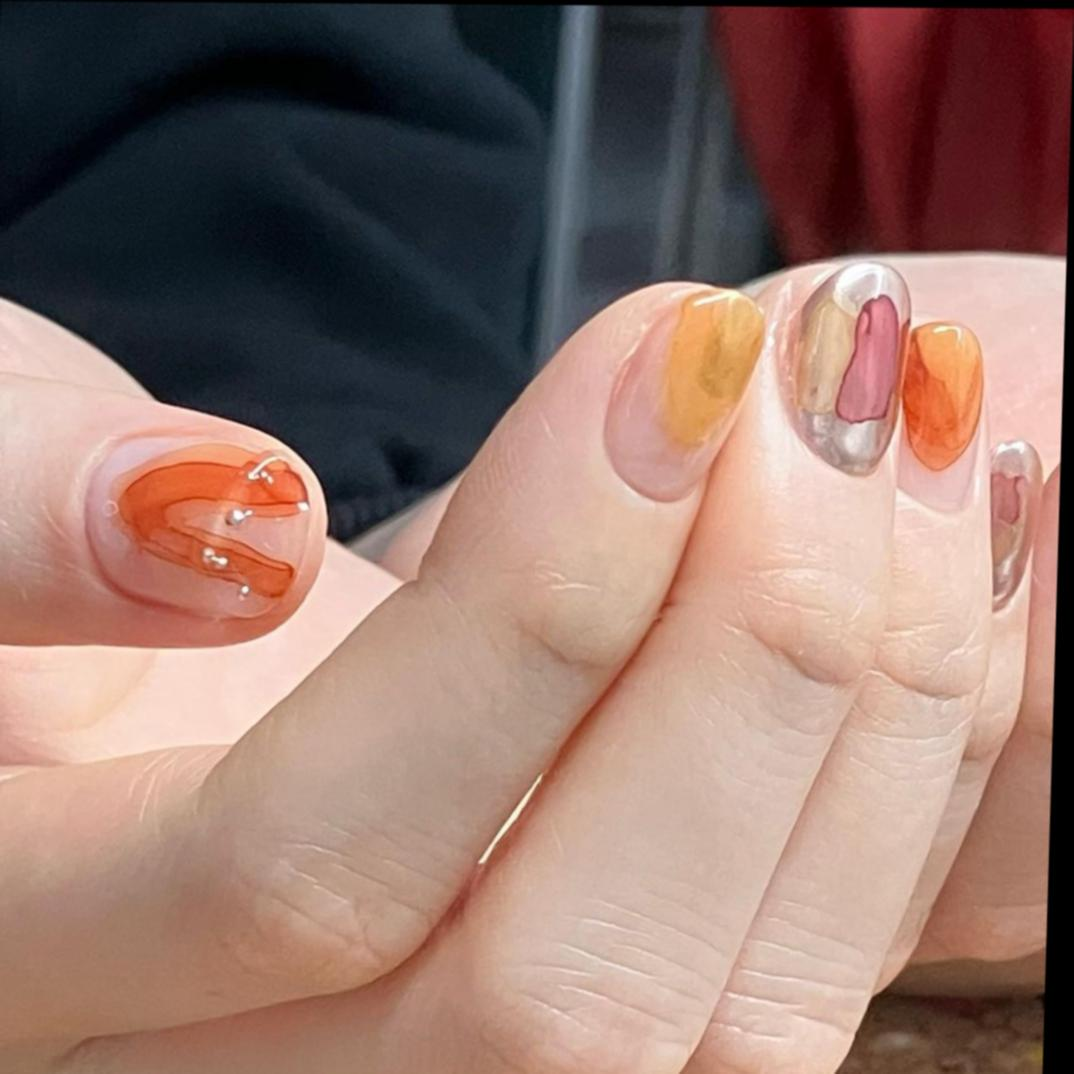nail: (598, 284, 767, 502), (108, 441, 312, 614), (785, 257, 911, 474), (898, 318, 984, 470), (983, 437, 1042, 607), (833, 291, 899, 423)
